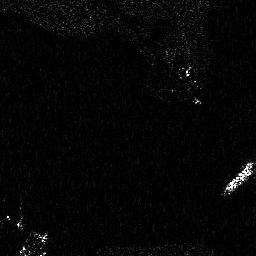ship: (223, 161, 254, 195)
